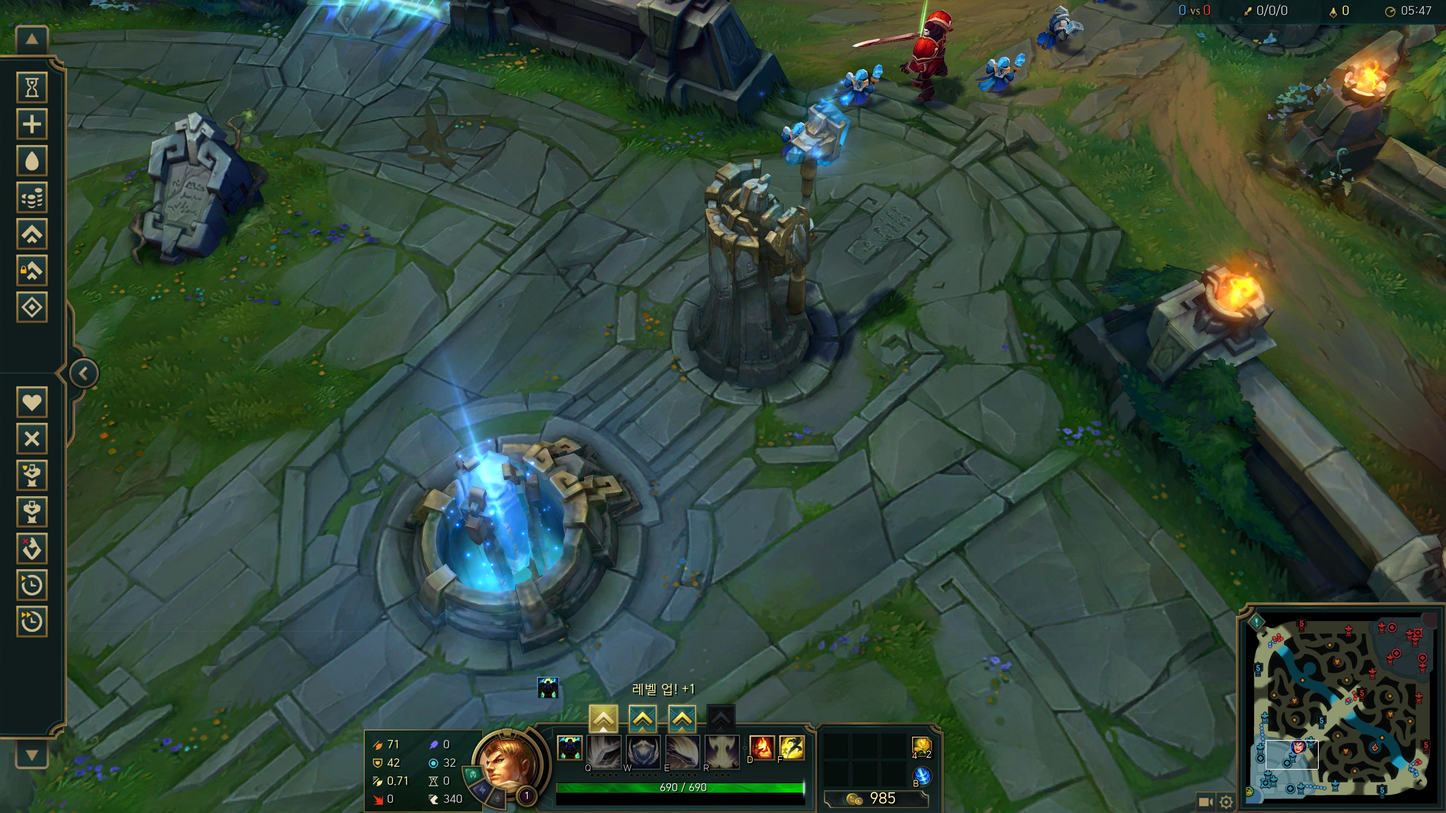ally-caster-minion: (837, 62, 884, 104), (980, 50, 1028, 91)
ally-inhibitor: (375, 434, 639, 674)
ally-melee-minion: (1038, 3, 1084, 47)
ally-tower: (672, 96, 847, 407)
